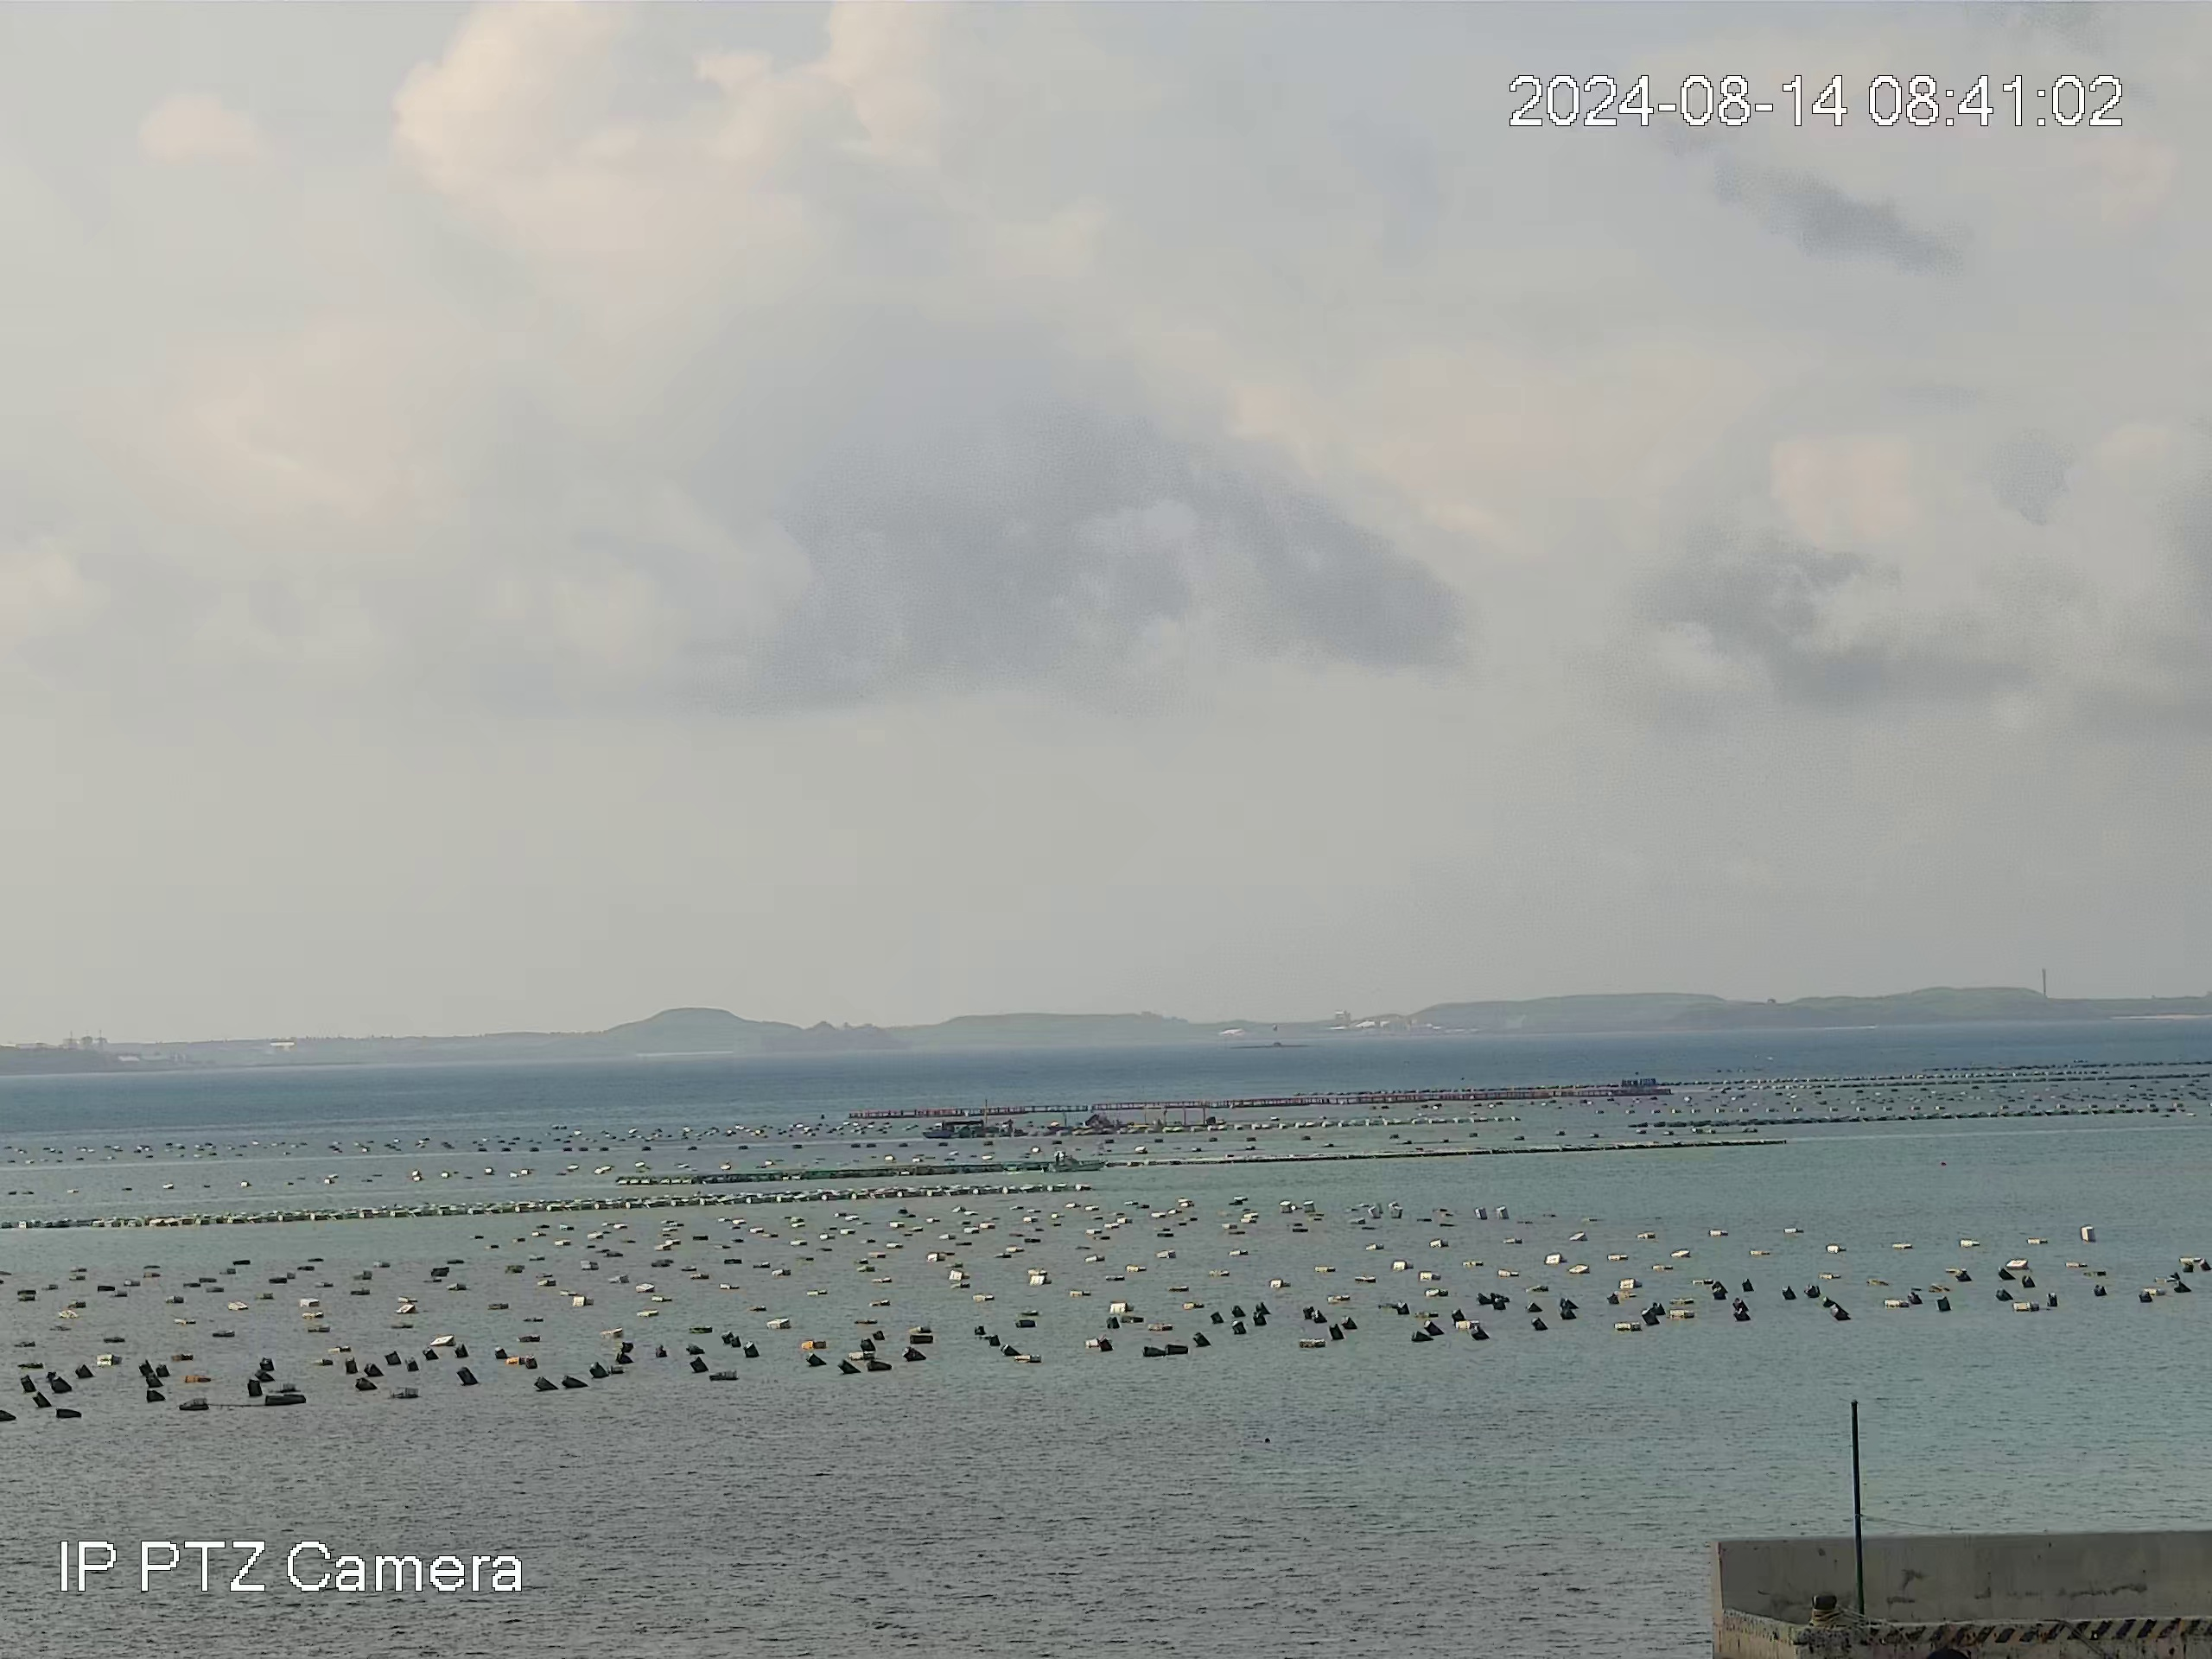boat: (925, 1115, 996, 1140), (1045, 1150, 1104, 1168)
